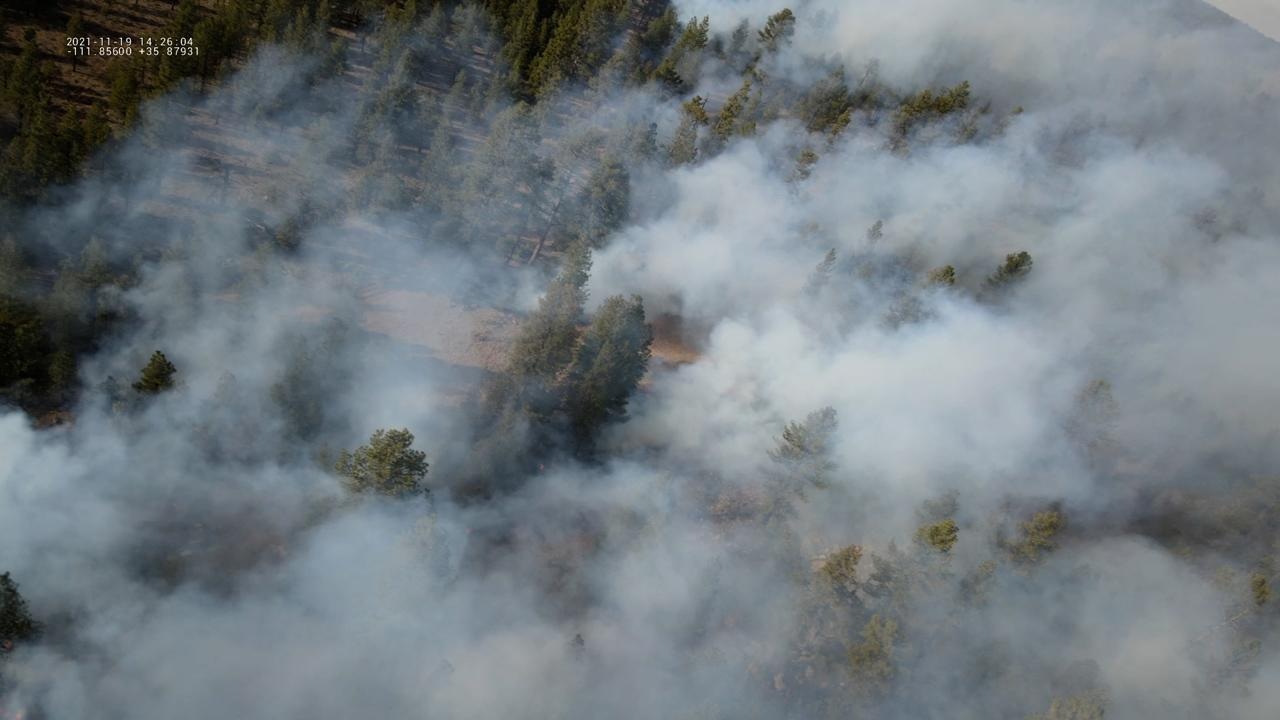fire: (539, 463, 545, 471)
smoke: (0, 0, 1280, 720)
